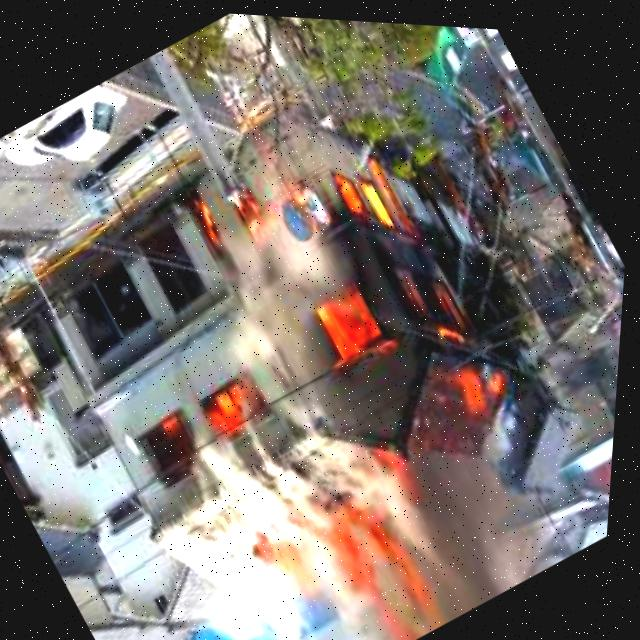Fire: (174, 83, 515, 454), (201, 371, 276, 445)
Smoke: (124, 307, 578, 640)
